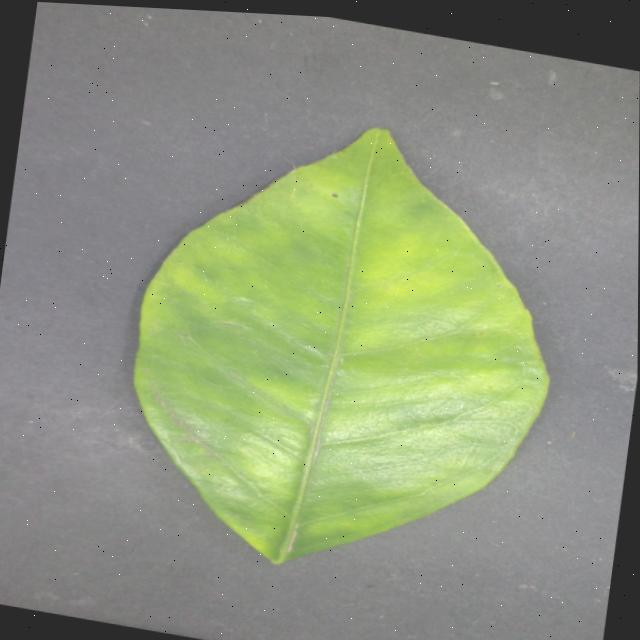greening: (135, 128, 547, 561)
